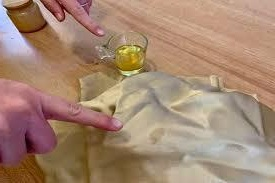oil: (144, 126, 174, 148)
